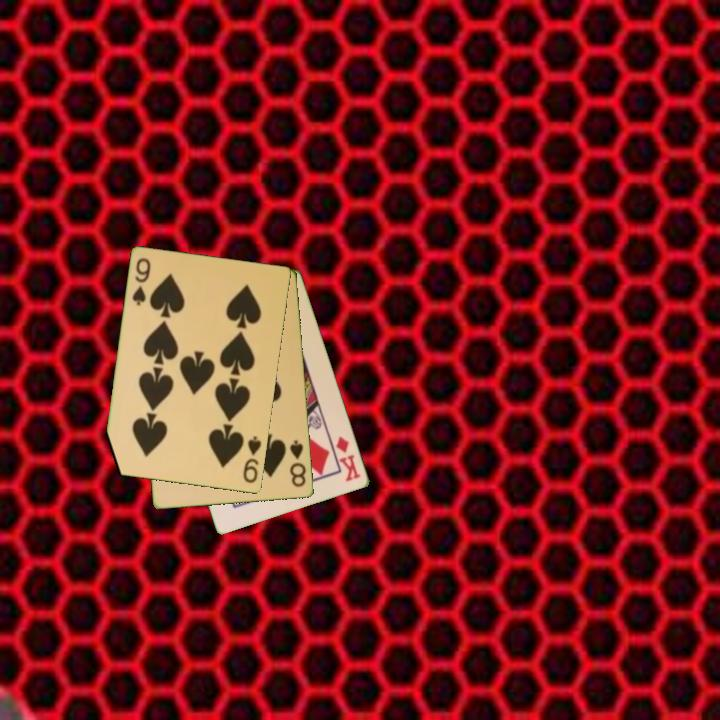8s: (286, 437, 309, 490)
9s: (129, 255, 154, 309), (240, 433, 264, 486)
Kd: (333, 433, 364, 485)
